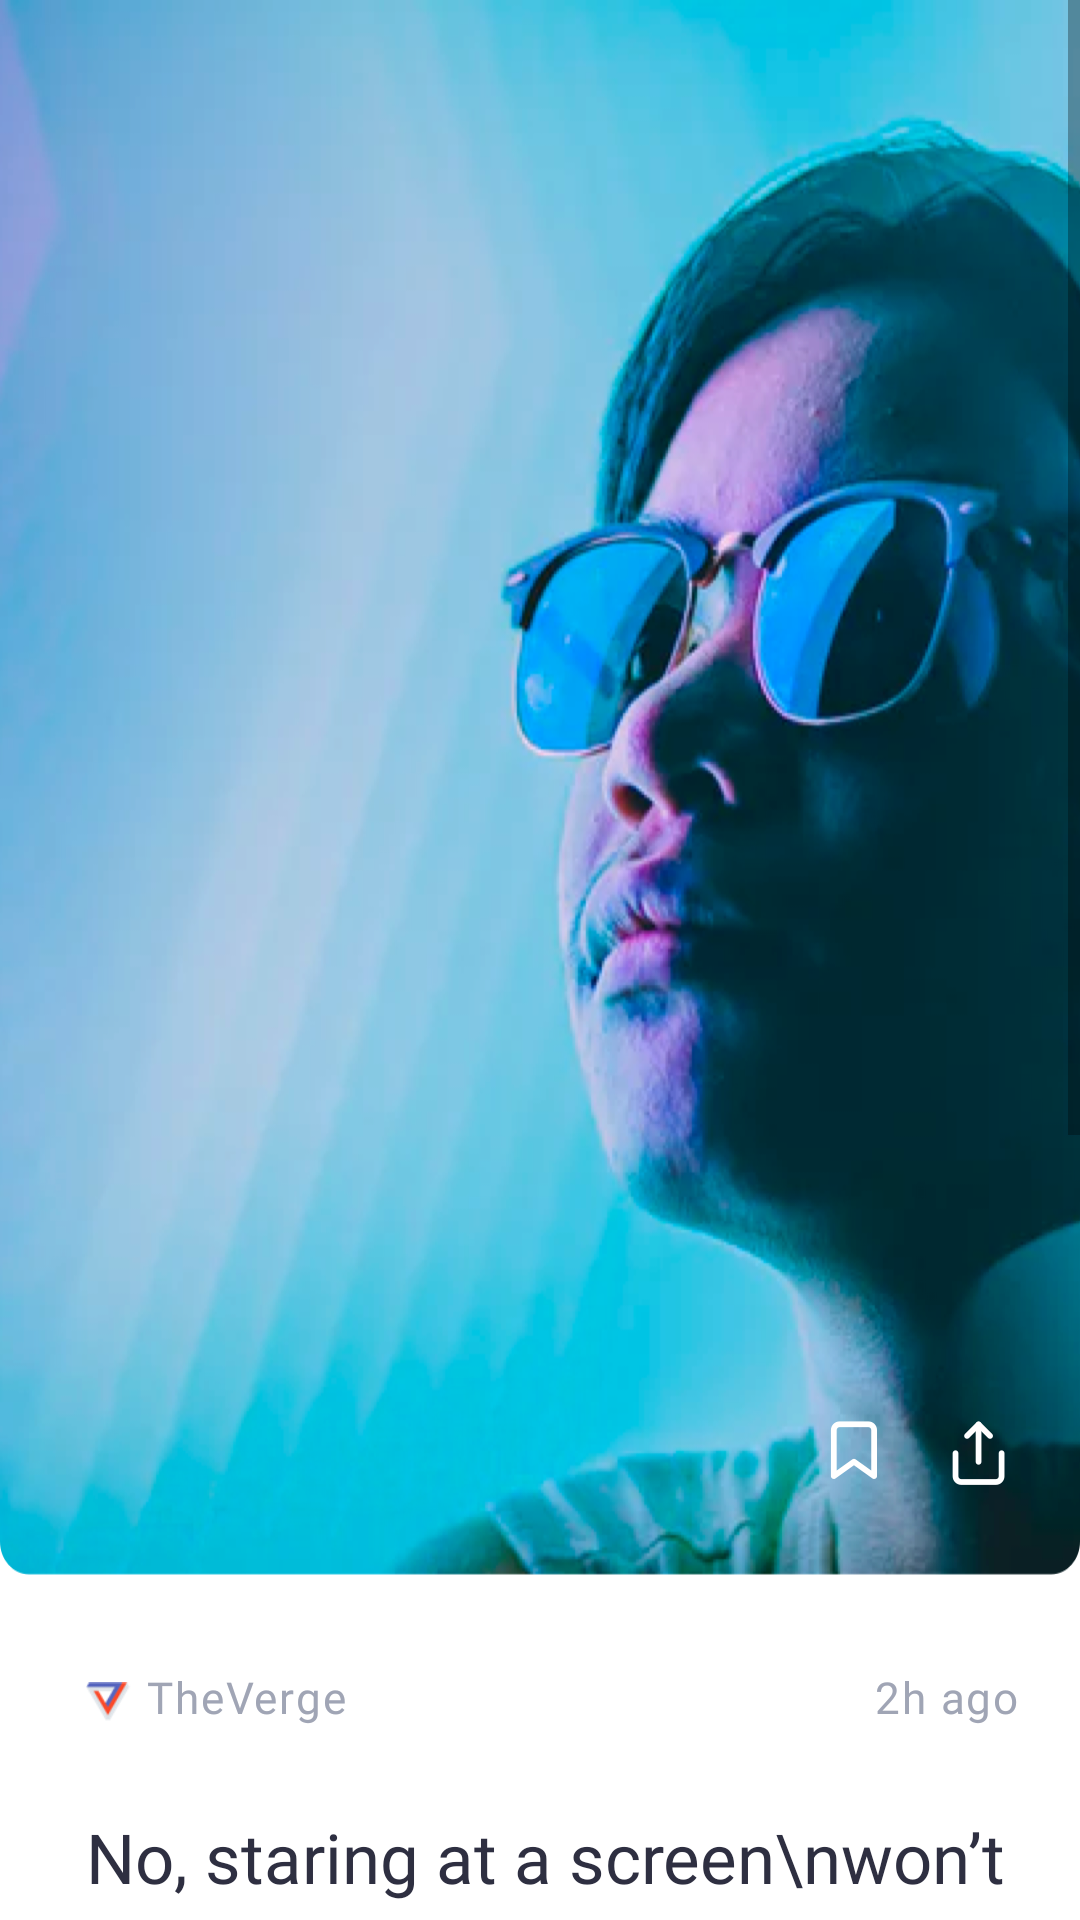

Named icons in this screenshot (1080 x 1920) and their centers, [x,y]:
bookmark: [853,1450]
share: [978,1453]
